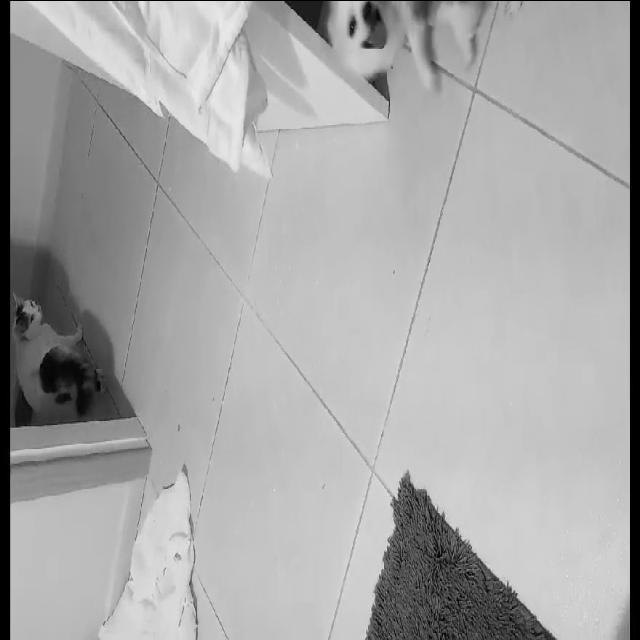Simba: (9, 282, 115, 418)
Theo: (304, 2, 494, 92)
